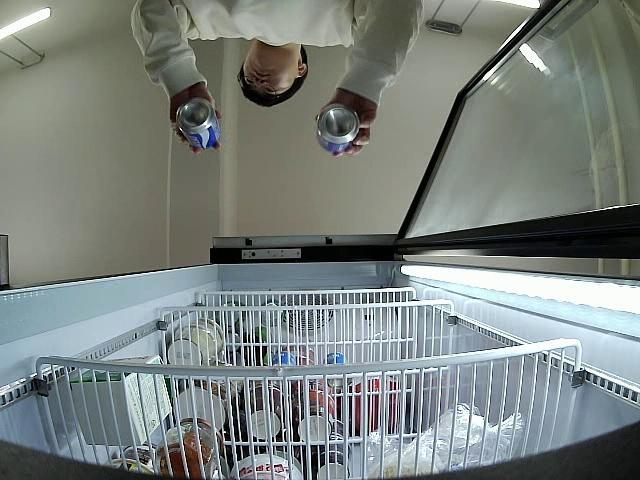13_pocariSweat: (316, 105, 364, 156), (176, 99, 220, 152)
